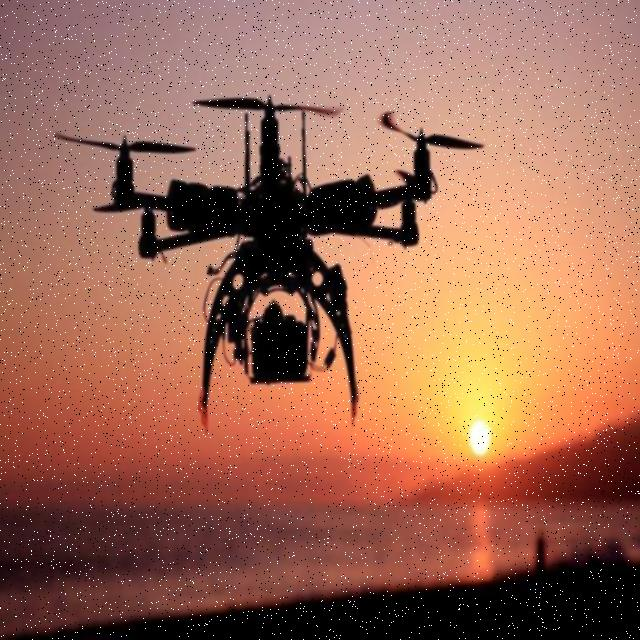UAV: (110, 90, 438, 426)
